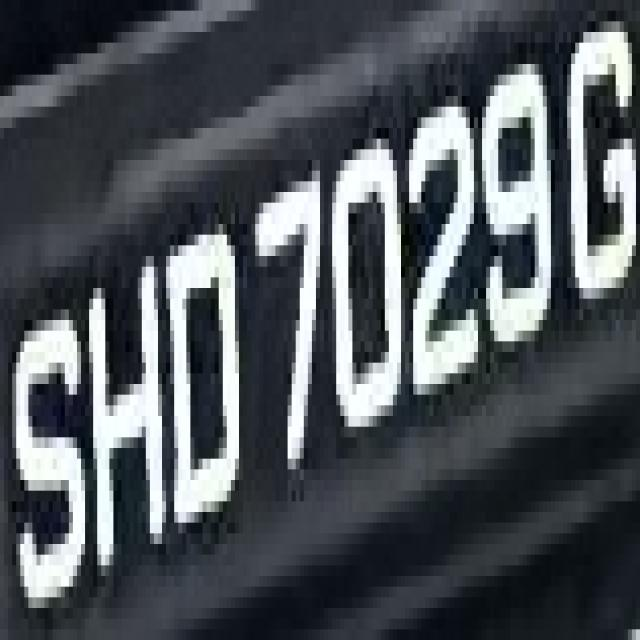0: (324, 118, 405, 470)
2: (397, 75, 490, 416)
7: (235, 171, 328, 512)
9: (470, 53, 559, 363)
D: (162, 202, 247, 554)
G: (559, 21, 640, 320)
H: (85, 224, 170, 576)
S: (8, 267, 85, 629)
